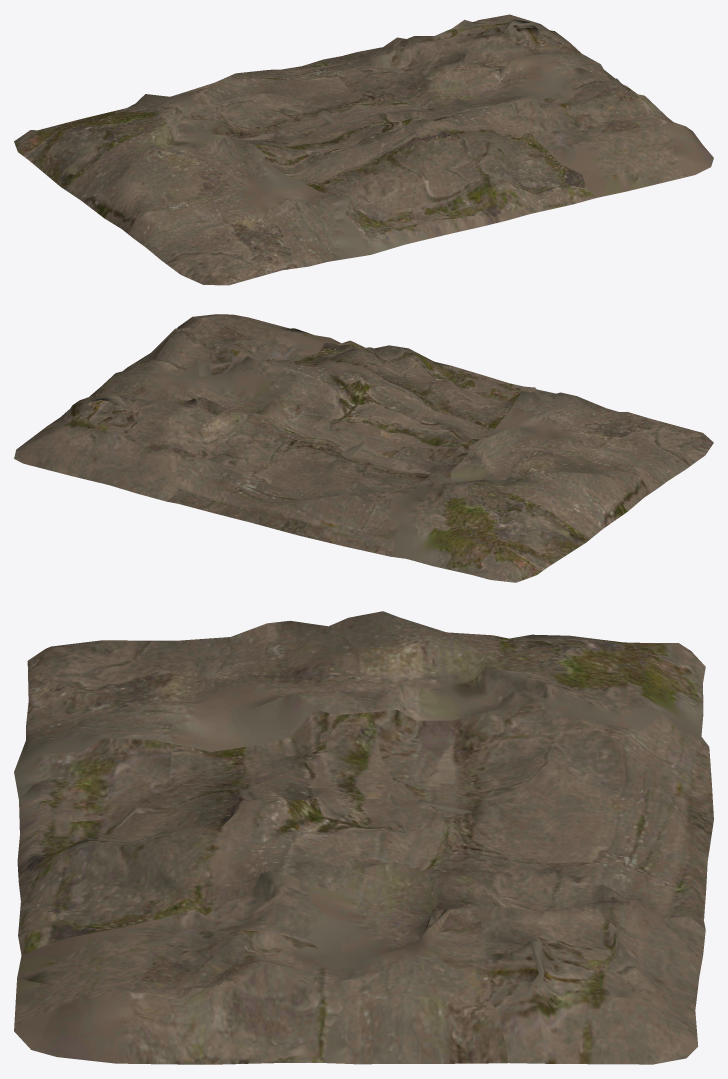
Rendered from Ground_patch_02.fbx.
3 renders of one model, top to bottom at view 1: azimuth 30°, elevation 25°; view 2: azimuth 150°, elevation 25°; view 3: azimuth 270°, elevation 25°, orthographic. The views are drawn at different scales.
Visible parts, largest first — view 1: Aset_ground_forest_M_tkqvabmfa_LOD5:Aset_ground_forest_M_tkq; view 2: Aset_ground_forest_M_tkqvabmfa_LOD5:Aset_ground_forest_M_tkq; view 3: Aset_ground_forest_M_tkqvabmfa_LOD5:Aset_ground_forest_M_tkq.
Part boxes in pixels (box(x1,y1,x2,y2)): Aset_ground_forest_M_tkqvabmfa_LOD5:Aset_ground_forest_M_tkq: box(14, 14, 713, 285); Aset_ground_forest_M_tkqvabmfa_LOD5:Aset_ground_forest_M_tkq: box(14, 314, 713, 582); Aset_ground_forest_M_tkqvabmfa_LOD5:Aset_ground_forest_M_tkq: box(14, 611, 713, 1064).
Size of the model in its own units: 2.55 by 0.221 by 1.78.
1 material, 1 textured.
